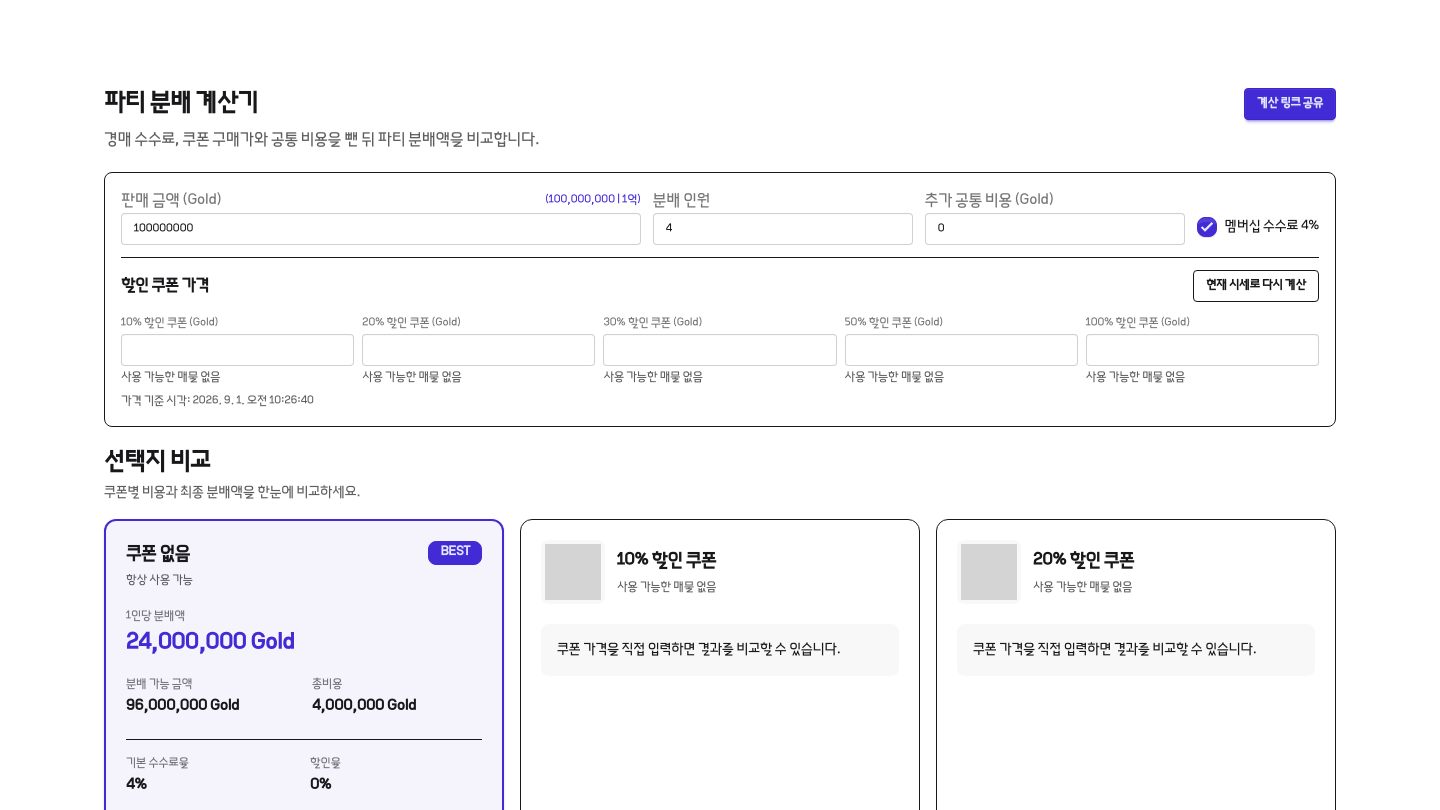
auction calculator page › shares the exact frozen URL through the clipboard fallback
Click the button "계산 링크 공유".
click(1290, 104)  # box [1244,88,1336,120]
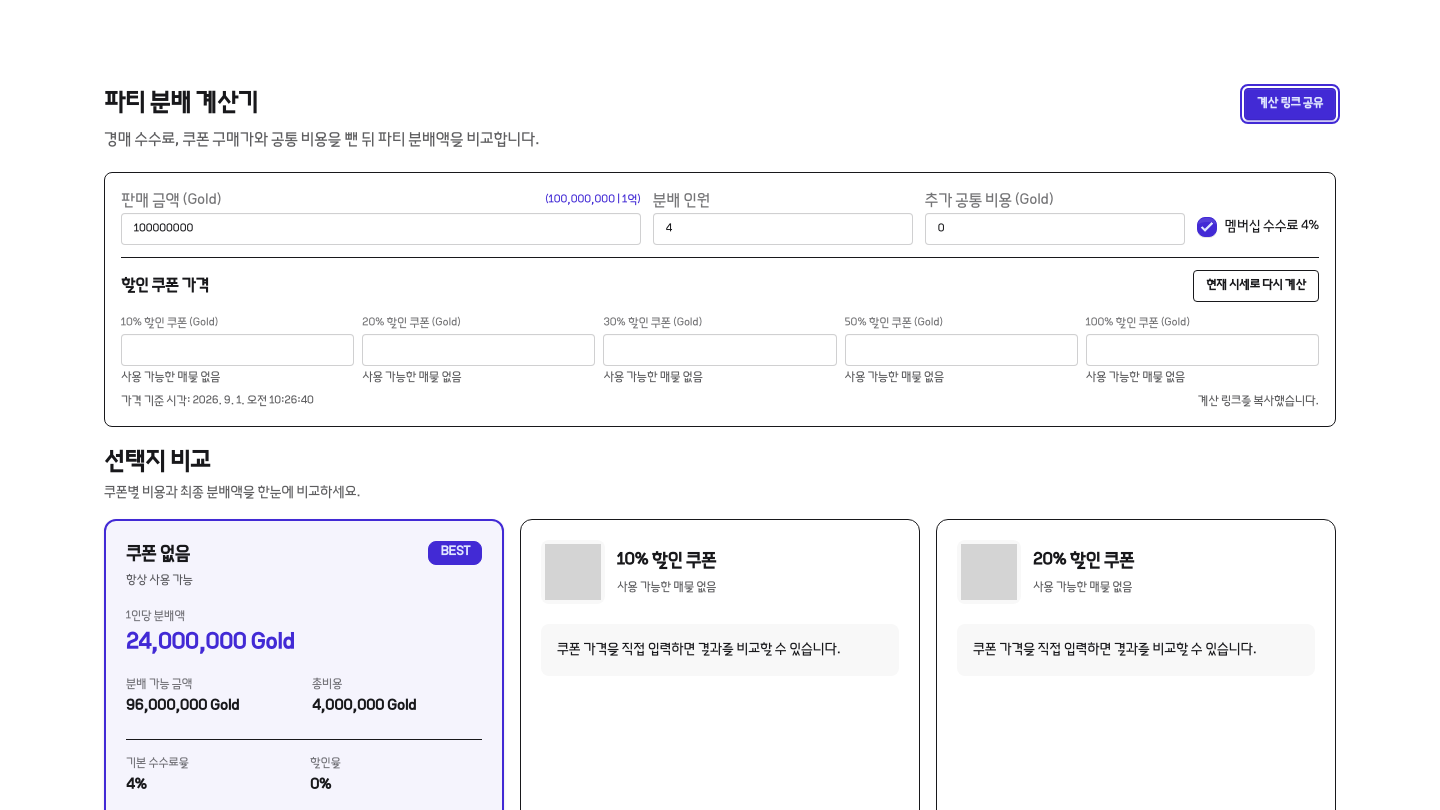
Expected: the text "계산 링크를 복사했습니다." is shown, [1198,394,1319,410]
